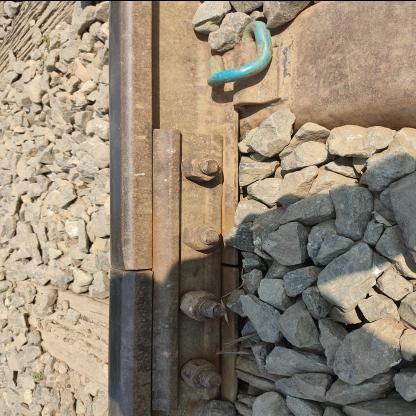Non Defective 1: (180, 9, 308, 107)
Non Defective 3: (148, 119, 266, 413)
